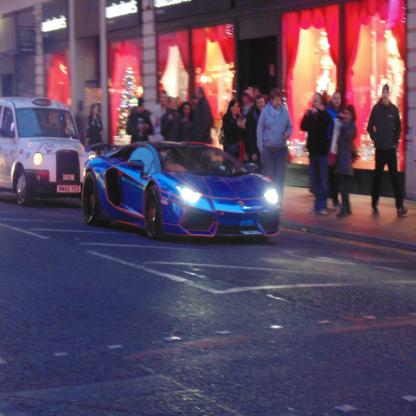Car: (73, 130, 285, 244), (0, 96, 97, 206)
